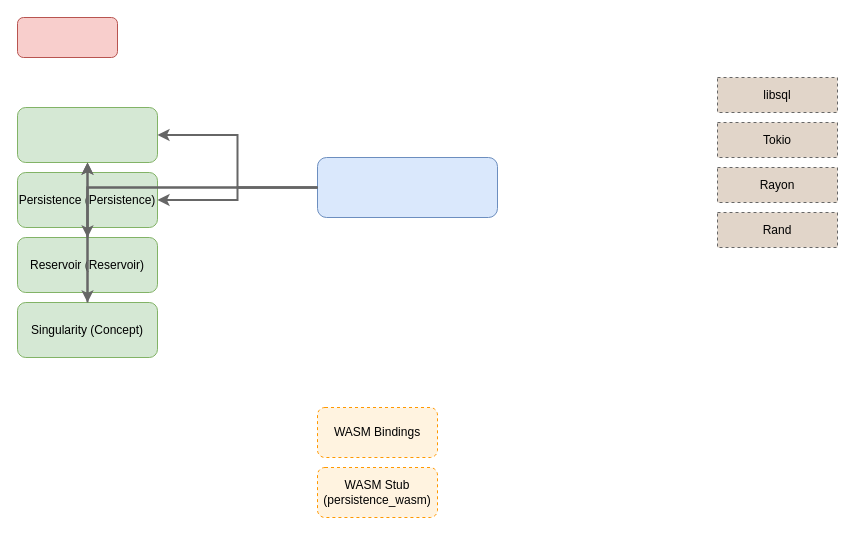
The diagram is 855 pixels wide and 535 high, and some of its shapes have lost their labels. The centre of each missing label's shape, as x and y in pixels:
"Error" belongs at point 67,37.
"Framework (Orchestrator)" belongs at point 407,187.
"Hyperdim (HVec10240)" belongs at point 87,134.
